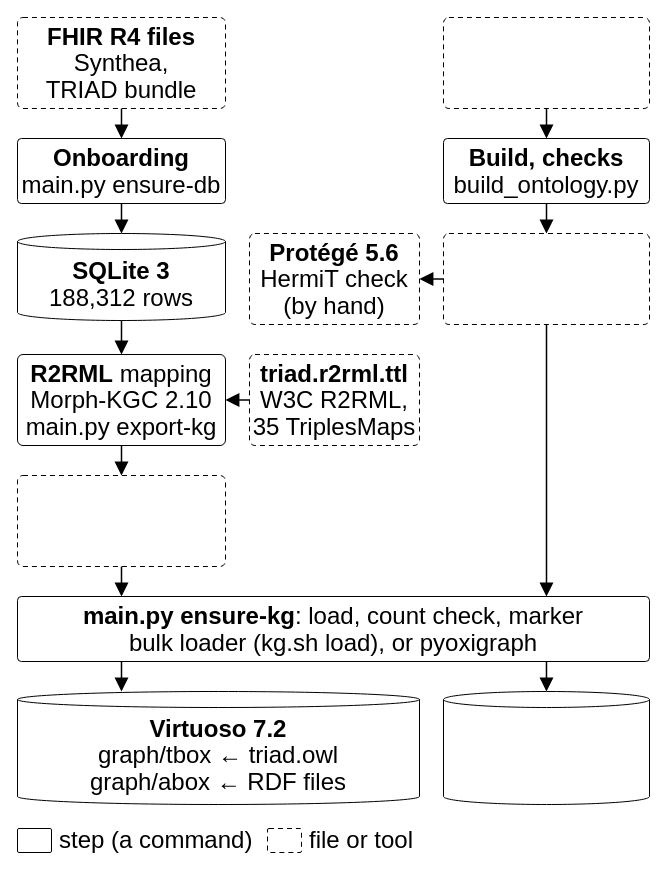
Image size: 667x874. Some labels were removed from this diagram. Each missing label, with the centre of its shape:
Oxigraph embedded, same graphs: (x=546, y=747)
RDF files .nt.gz, .rdf.gz 1,298,482 triples: (x=121, y=520)
triad.owl RDF/XML, 1,956 triples: (x=546, y=278)
triad.ttl Turtle source, by hand: (x=546, y=62)
